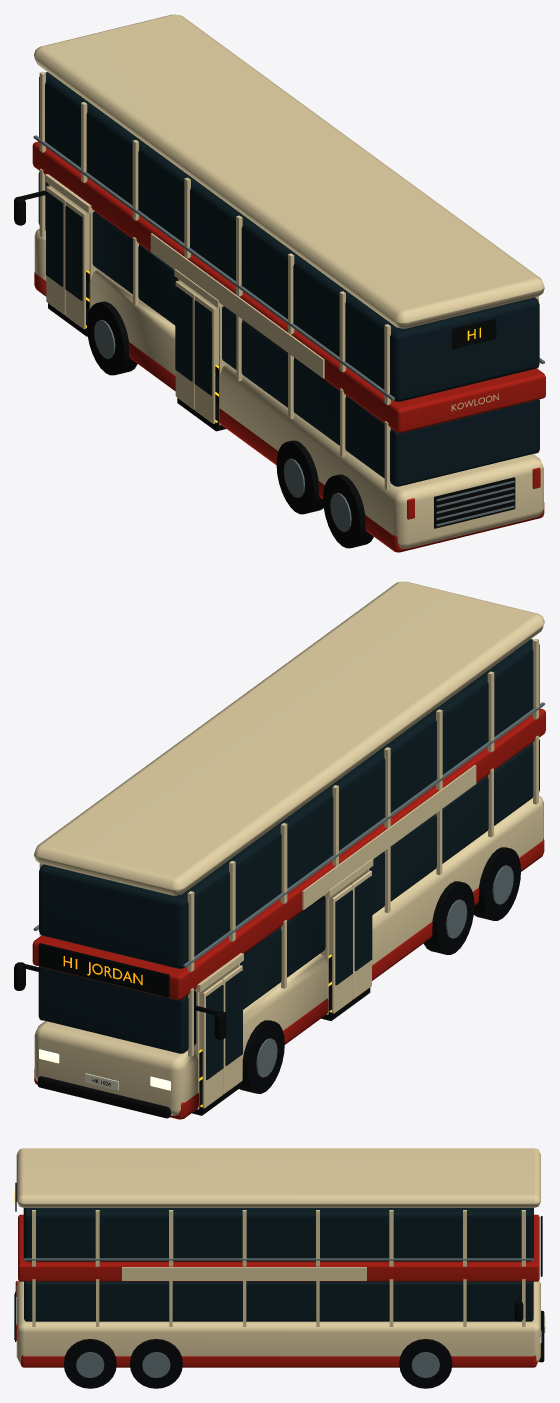
File: bus.glb
3 renders of one model, top to bottom at view 1: azimuth 30°, elevation 25°; view 2: azimuth 150°, elevation 25°; view 3: azimuth 270°, elevation 25°, orthographic. The views are drawn at different scales.
Parts seen in each view (by area): view 1: bus_Body.001, Door_1_L.001, Door_0_L.001, Door_0_R.001, Door_1_R.001, Wheel_-1_-3.001, Wheel_-1_3.0, Wheel_-1_-2.001; view 2: bus_Body.001, Door_1_R.001, Door_1_L.001, Door_0_R.001, Door_0_L.001, Wheel_-1_-2.001, Wheel_-1_-3.001, Wheel_-1_3.0; view 3: bus_Body.001, Wheel_1_3.0, Wheel_1_-3.001, Wheel_1_-2.001.
Part boxes in pixels (<box>): bus_Body.001: <box>14,14,545,552</box>; Door_1_L.001: <box>194,295,215,423</box>; Door_0_L.001: <box>65,200,85,329</box>; Door_0_R.001: <box>46,186,66,315</box>; Door_1_R.001: <box>175,281,195,409</box>; Wheel_-1_-3.001: <box>323,474,373,548</box>; Wheel_-1_3.0: <box>87,301,137,375</box>; Wheel_-1_-2.001: <box>276,440,323,514</box>; bus_Body.001: <box>14,581,545,1119</box>; Door_1_R.001: <box>332,885,352,1013</box>; Door_1_L.001: <box>351,870,372,999</box>; Door_0_R.001: <box>202,979,223,1108</box>; Door_0_L.001: <box>222,965,242,1094</box>; Wheel_-1_-2.001: <box>423,881,474,954</box>; Wheel_-1_-3.001: <box>474,847,520,920</box>; Wheel_-1_3.0: <box>239,1020,284,1093</box>; bus_Body.001: <box>14,1148,545,1377</box>; Wheel_1_3.0: <box>399,1339,452,1388</box>; Wheel_1_-3.001: <box>63,1339,116,1388</box>; Wheel_1_-2.001: <box>130,1339,182,1388</box>.
Size of the model in its own units: 3.51 by 4.27 by 10.86.
